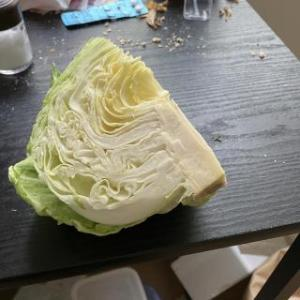cabbage: (7, 34, 228, 238)
